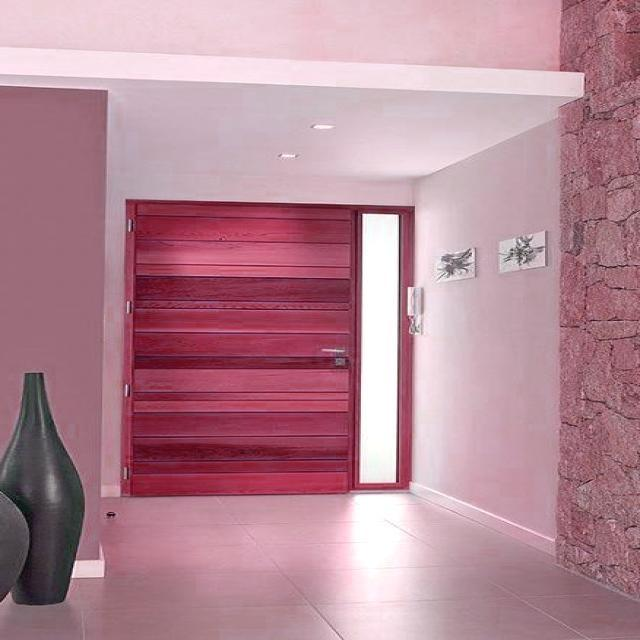door: (126, 198, 356, 490)
